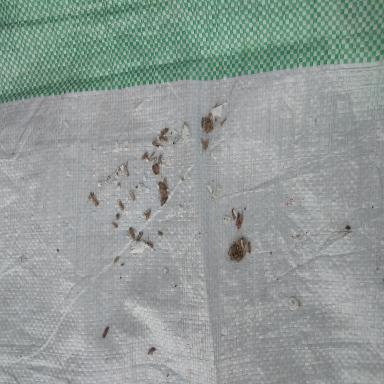pbw: (158, 178, 166, 188), (160, 126, 168, 136), (156, 136, 169, 142), (161, 196, 168, 207), (92, 196, 99, 207), (136, 231, 143, 242), (238, 216, 243, 230), (154, 163, 160, 174), (148, 347, 156, 355), (152, 139, 160, 147), (127, 231, 135, 239), (232, 239, 242, 245), (124, 166, 129, 178), (145, 210, 151, 220), (231, 208, 236, 220), (236, 212, 240, 226), (128, 192, 134, 201), (152, 165, 157, 175), (163, 178, 168, 188), (206, 122, 210, 134), (158, 154, 162, 166), (118, 202, 124, 210), (204, 138, 208, 150), (129, 228, 135, 236), (201, 118, 204, 132), (220, 118, 226, 125), (160, 187, 166, 194), (240, 239, 244, 249), (147, 242, 153, 248), (208, 112, 212, 121), (111, 223, 118, 228), (141, 155, 148, 160), (248, 243, 251, 254), (203, 140, 207, 148), (242, 249, 246, 257), (210, 120, 213, 130), (200, 137, 205, 143), (114, 256, 119, 262), (204, 124, 208, 131), (244, 243, 247, 252), (243, 238, 246, 247), (205, 117, 210, 122), (88, 193, 92, 199), (157, 231, 163, 234), (151, 152, 155, 156), (158, 233, 162, 236)
